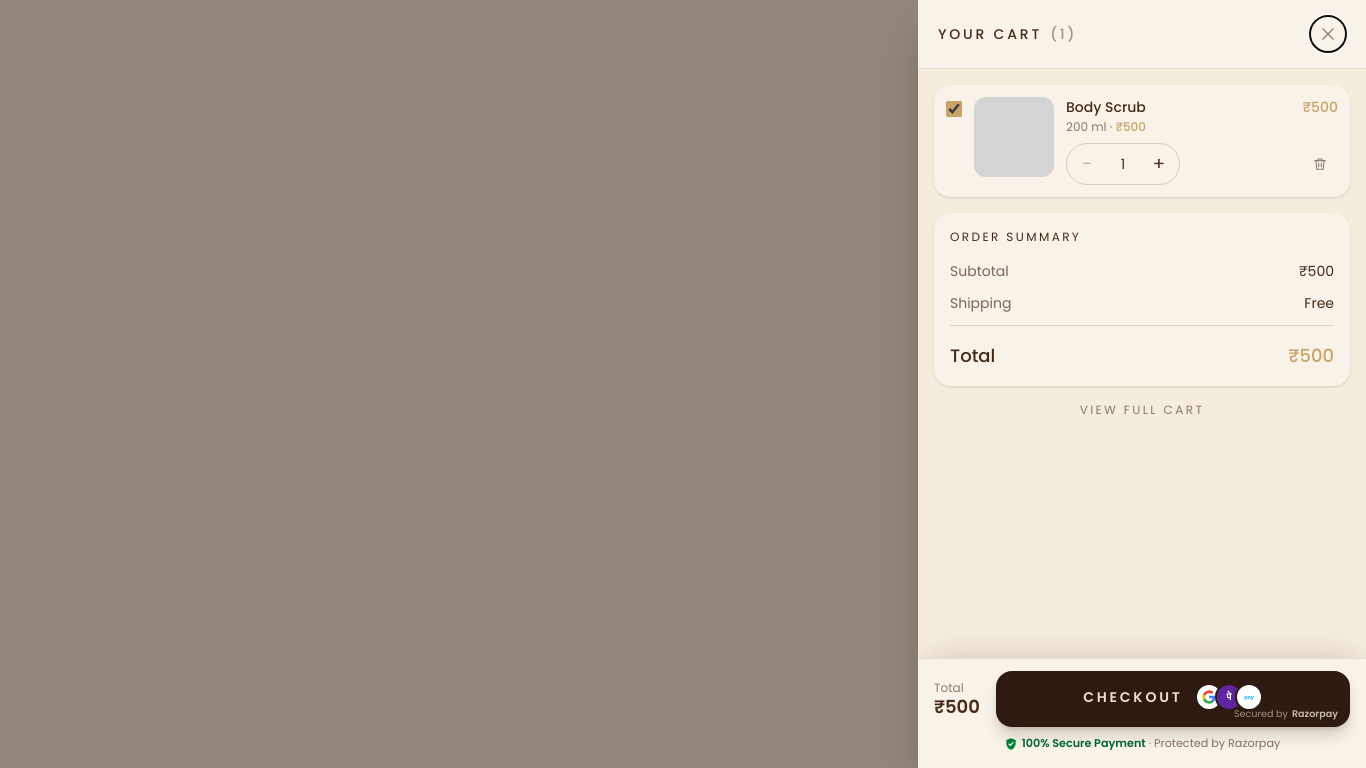
Test: CartDrawer › unticking every item disables Checkout
Click the checkbox named "Select Body Scrub for checkout" at x=954, y=109, box [946, 101, 962, 117]
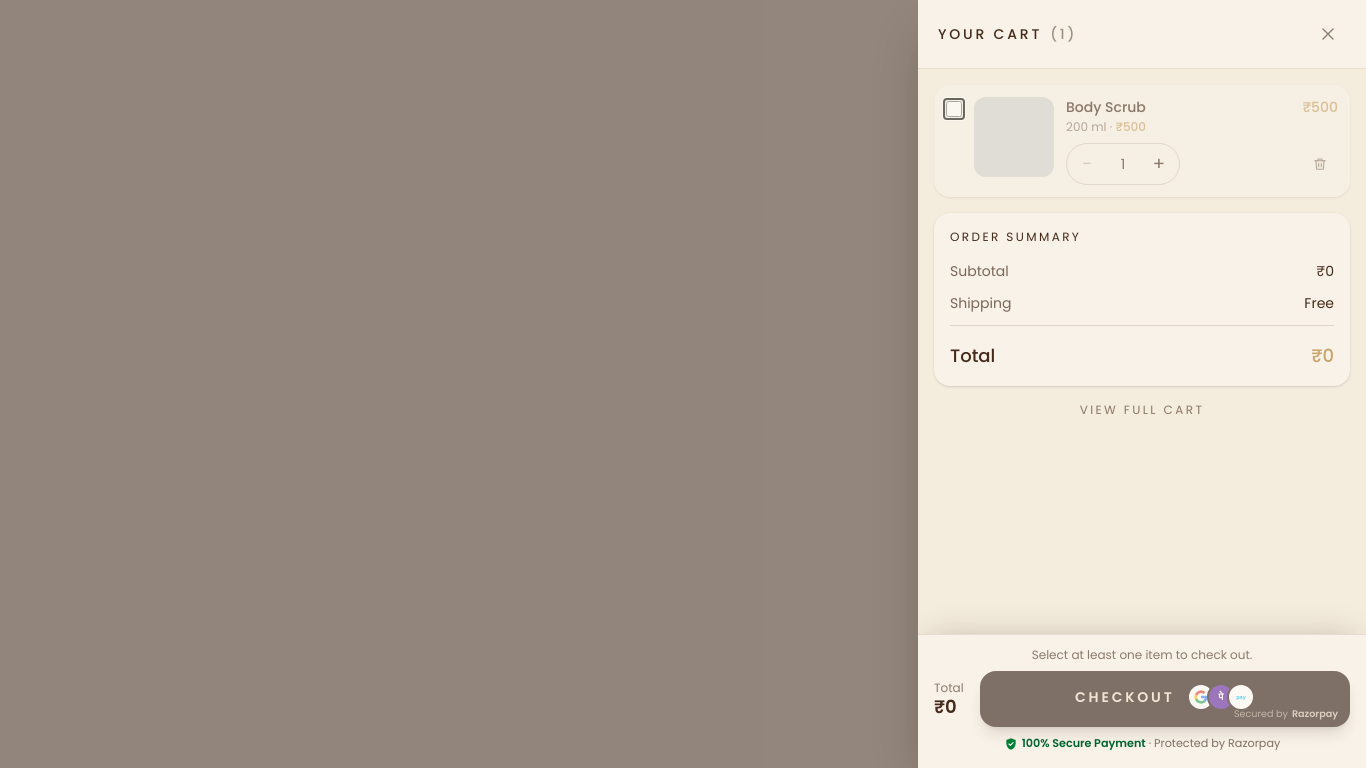
expect the text "Select at least one item to check out." is shown: met, box [1032, 646, 1252, 663]
expect the button "Checkout पे pay Secured by Razorpay" is disabled: met, box [980, 671, 1350, 727]
